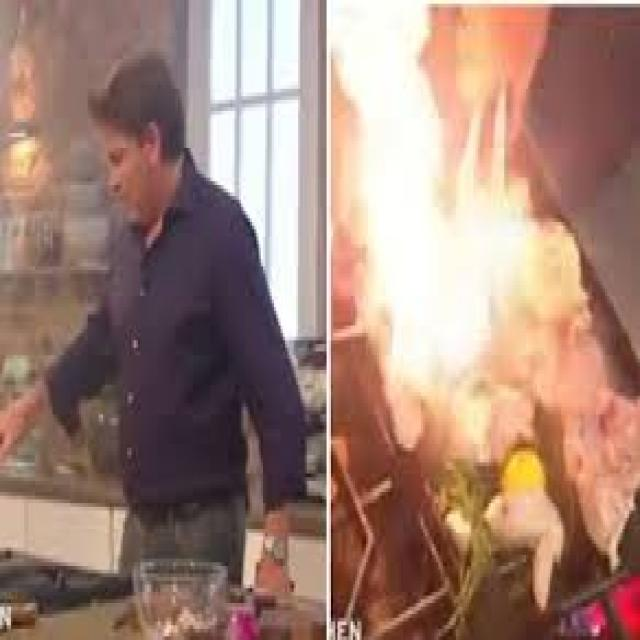Fire: (325, 5, 592, 466)
